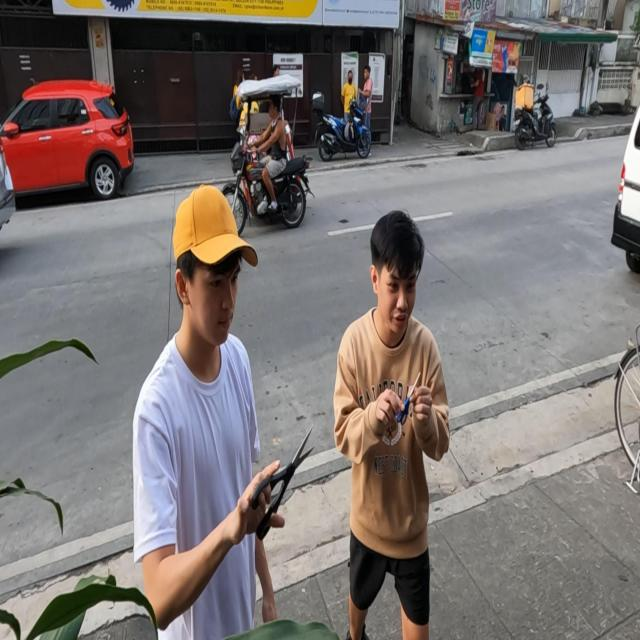scissor: (250, 423, 316, 541), (395, 371, 422, 426)
